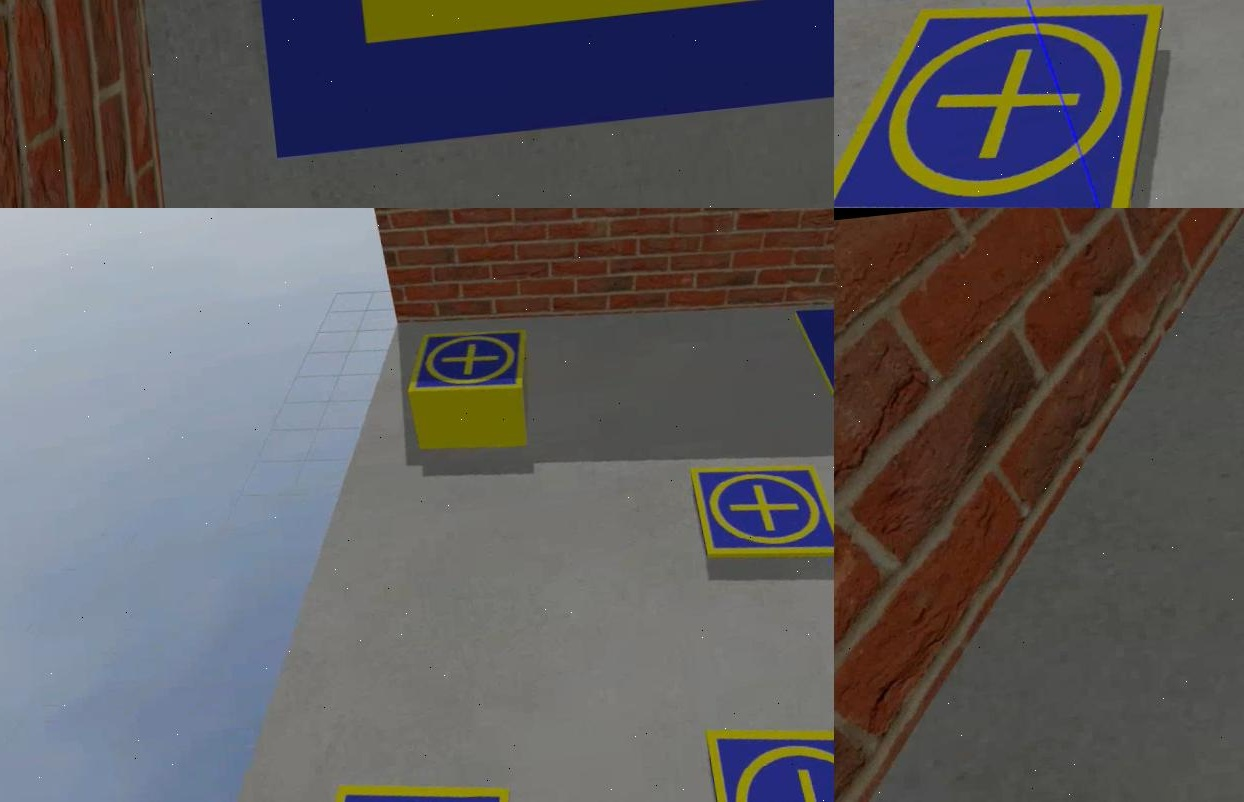large_base: (214, 1, 832, 165)
small_base: (832, 1, 1184, 209), (688, 450, 832, 572), (704, 715, 832, 802), (397, 322, 531, 404), (291, 766, 521, 802)
